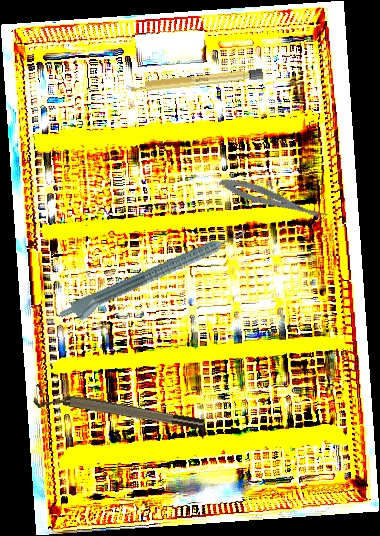Fixation Ring: (32, 383, 205, 440)
Handpiece: (56, 225, 253, 330)
Micro Scissor: (217, 172, 330, 228)
Scalpel Handle: (125, 67, 264, 94)
